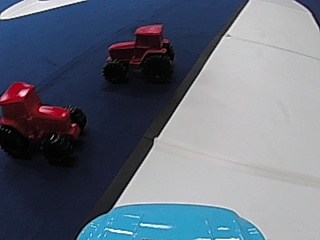tractor: (0, 75, 79, 162), (102, 21, 177, 86)
